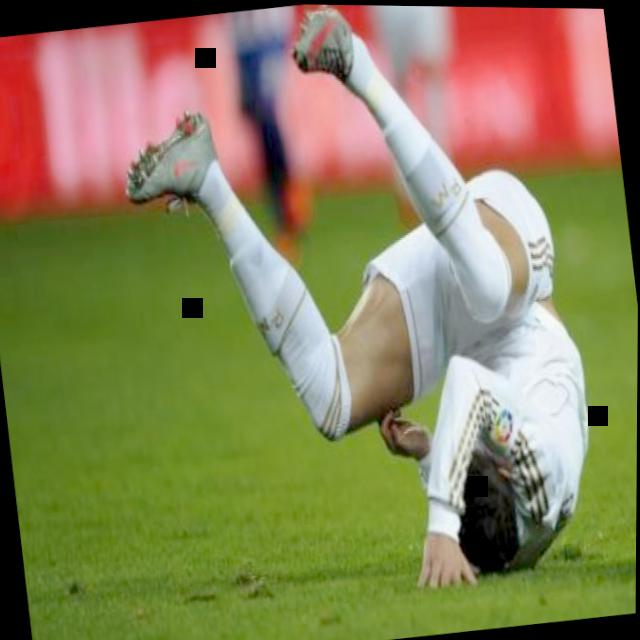Fall-Detected: (111, 1, 635, 634)
